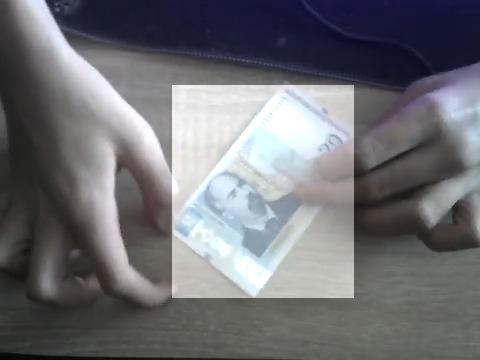20leva: (172, 85, 354, 298), (173, 85, 352, 298)
